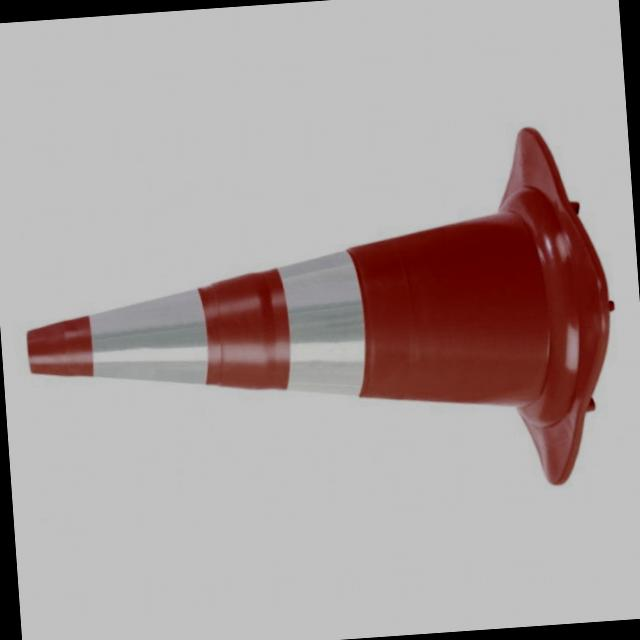cone: (7, 84, 640, 528)
